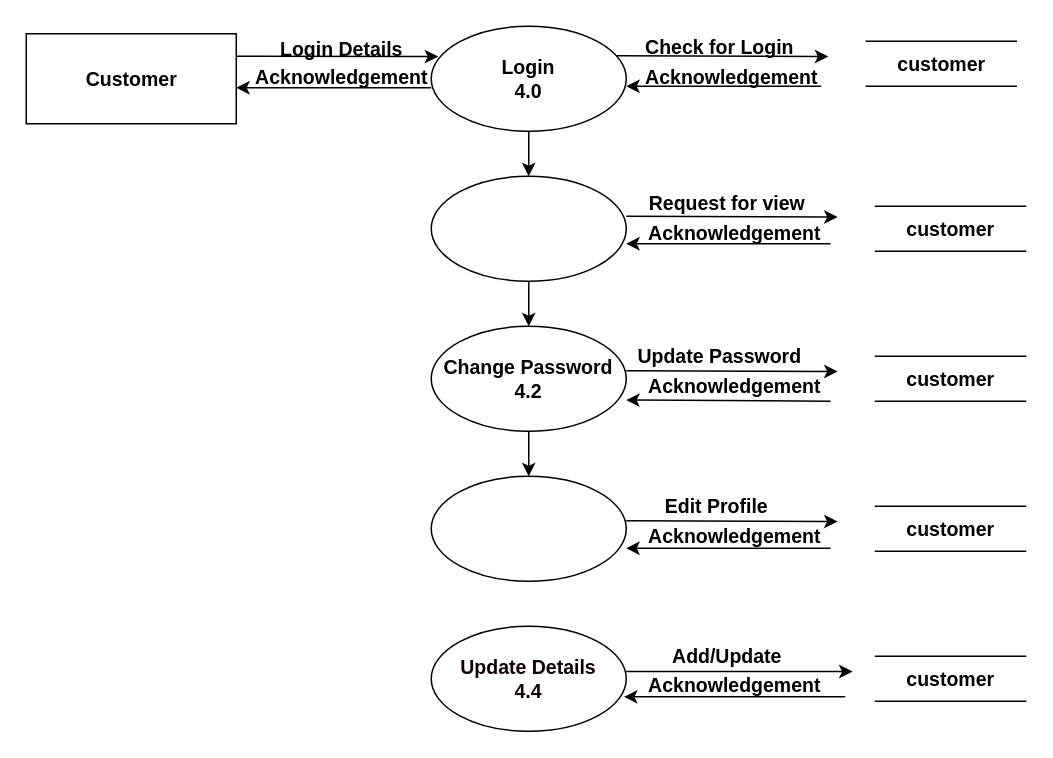
Some shapes in this 1053 by 758 pixel diagram are drawn without their labels. Each missing label, with the centre of its shape:
"Edit Account 4.3" belongs at (x=528, y=528).
"View Account 4.1" belongs at (x=528, y=228).
